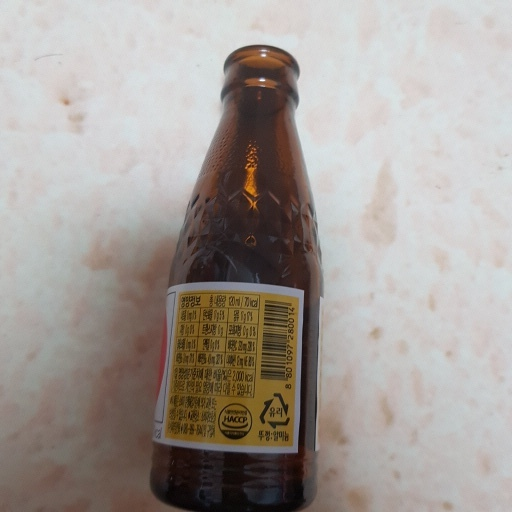Glass_3: (147, 43, 335, 508)
